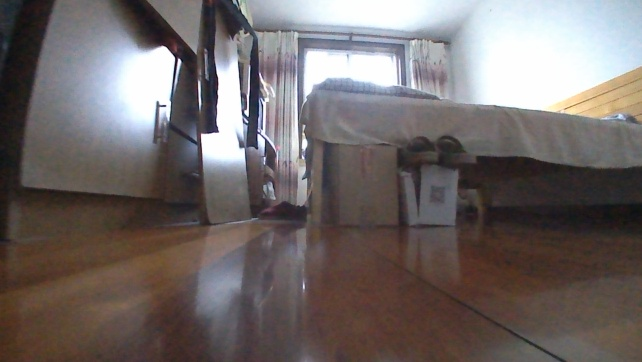bed: (295, 63, 641, 225)
shoe: (257, 200, 307, 223)
